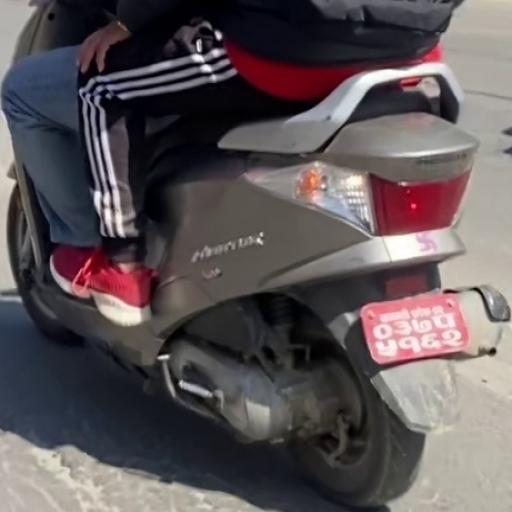license_plate: (357, 288, 481, 368)
